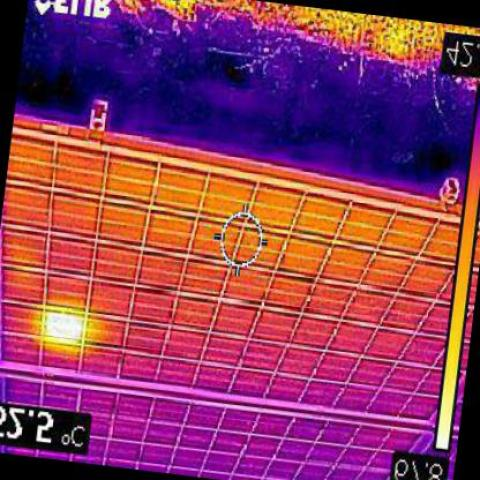fault: (45, 308, 78, 338)
